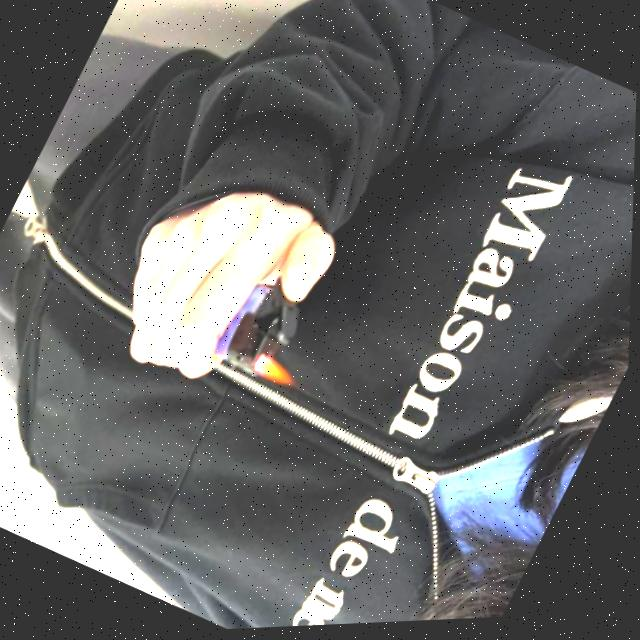Fire: (253, 350, 307, 394)
